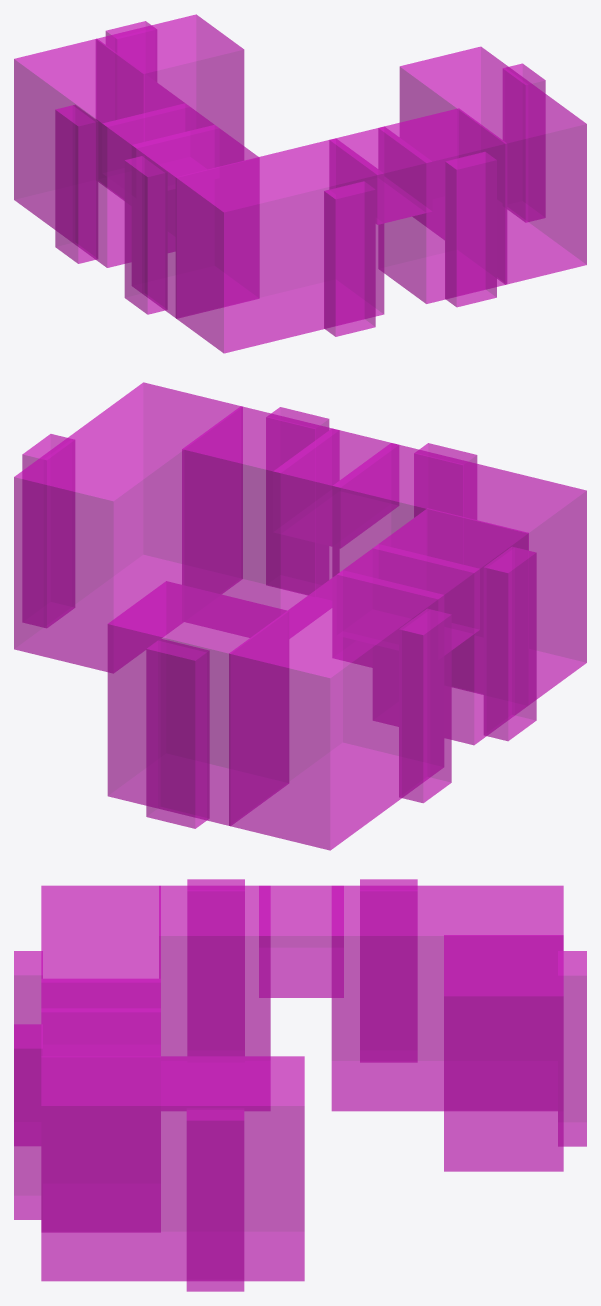
File: SM_Bld_Wall_L_Corner_Doorway_Double_02_Collision.fbx
The picture shows the model from 3 angles, top to bottom: view 1: azimuth 30°, elevation 25°; view 2: azimuth 150°, elevation 25°; view 3: azimuth 270°, elevation 25°; orthographic projection. The views are drawn at different scales.
Parts seen in each view (by area): view 1: SM_Bld_Wall_L_Corner_Doorway_Double_02_Collision; view 2: SM_Bld_Wall_L_Corner_Doorway_Double_02_Collision; view 3: SM_Bld_Wall_L_Corner_Doorway_Double_02_Collision.
Part boxes in pixels (<box>): SM_Bld_Wall_L_Corner_Doorway_Double_02_Collision: <box>14,14,586,353</box>; SM_Bld_Wall_L_Corner_Doorway_Double_02_Collision: <box>14,382,586,850</box>; SM_Bld_Wall_L_Corner_Doorway_Double_02_Collision: <box>14,879,586,1291</box>.
Bounding box in the file's own units: 900 × 305 × 902.
